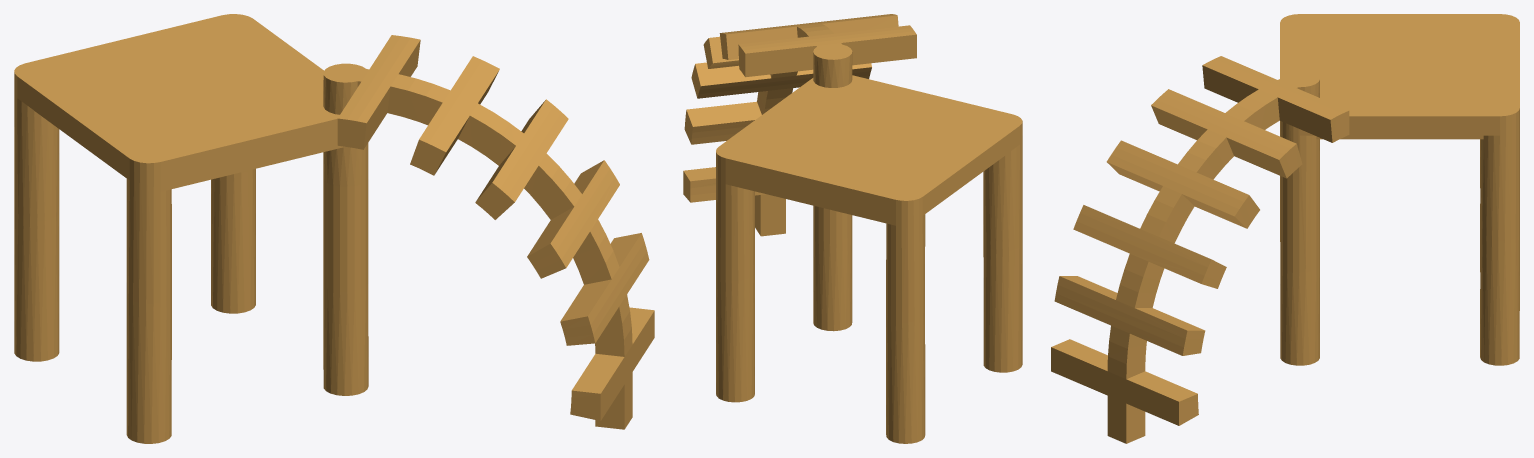
The model's file is climber.glb.
The picture shows the model from 3 angles, left to right: view 1: azimuth 30°, elevation 25°; view 2: azimuth 150°, elevation 25°; view 3: azimuth 270°, elevation 25°; orthographic projection. The views are drawn at different scales.
Visible parts, largest first — view 1: Mesh_Mesh_head_geo.001_lambert2SG.001; view 2: Mesh_Mesh_head_geo.001_lambert2SG.001; view 3: Mesh_Mesh_head_geo.001_lambert2SG.001.
Boxes of the visible parts, left/top/right/bottom form: Mesh_Mesh_head_geo.001_lambert2SG.001: left=14, top=14, right=654, bottom=443; Mesh_Mesh_head_geo.001_lambert2SG.001: left=683, top=14, right=1022, bottom=443; Mesh_Mesh_head_geo.001_lambert2SG.001: left=1051, top=14, right=1519, bottom=443.
Size of the model in its own units: 6 by 4 by 6.
